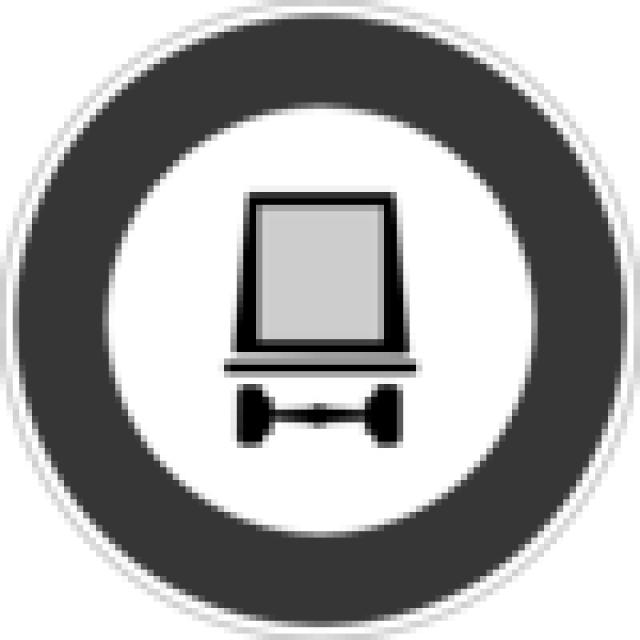forbidden: (0, 0, 634, 627)
